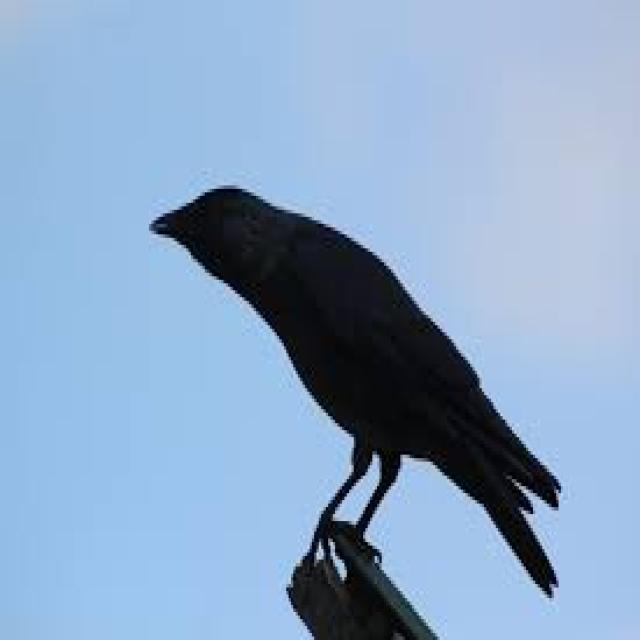bird: (144, 153, 579, 605)
